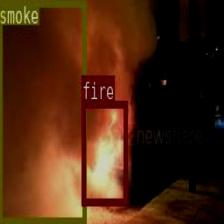fire: (81, 99, 127, 204)
smoke: (0, 0, 85, 223)
